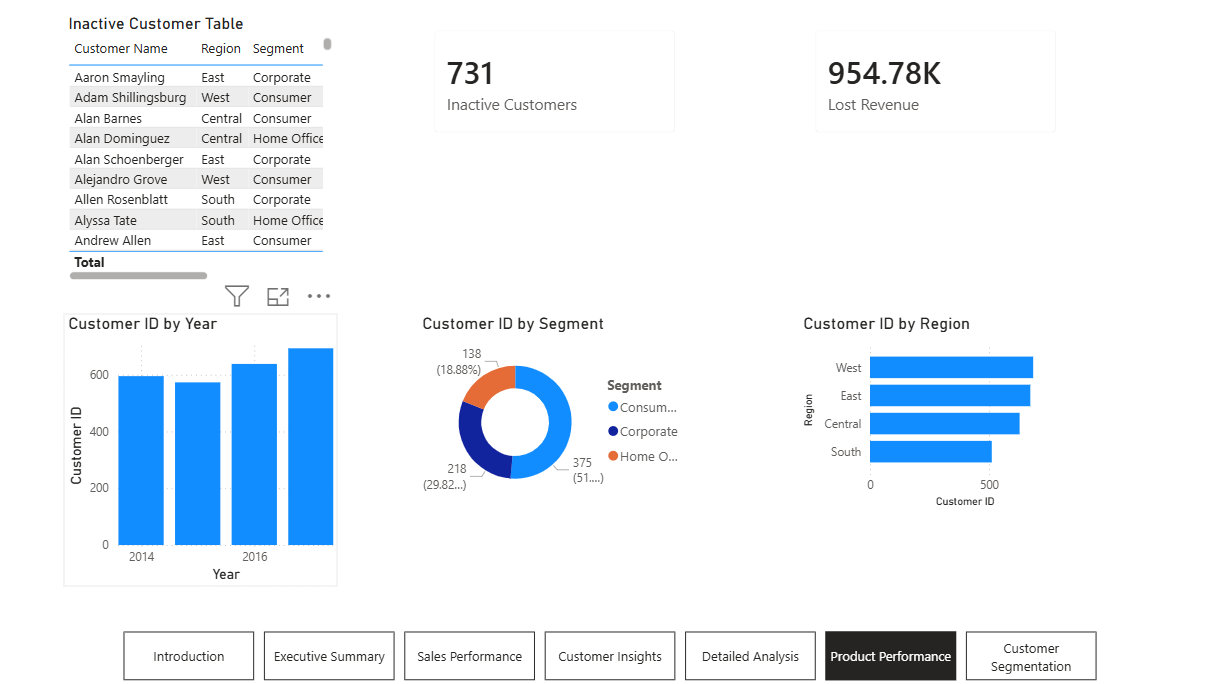

The page's visual inventory and layout, read from the dashboard file:
{"tool":"powerbi","page":{"name":"Product Performance","canvas":[1280,720],"ordinal":5},"visuals":[{"type":"tableEx","title":"Inactive Customer Table","fields":{"Values":["sales_dashboard sales.Customer Name","sales_dashboard sales.Region","sales_dashboard sales.Segment","Sum(sales_dashboard sales.Sales)","Sum(sales_dashboard sales.Profit)","Sum(sales_dashboard sales.Order Year)"]},"box":[78.7,22.7,280.1,278.6],"z":0},{"type":"clusteredColumnChart","fields":{"Category":["sales_dashboard sales.Year"],"Y":["Count(sales_dashboard sales.Customer ID)"]},"box":[78.7,330.1,281.6,280.1],"z":1000},{"type":"donutChart","fields":{"Category":["sales_dashboard sales.Segment"],"Y":["Count(sales_dashboard sales.Customer ID)"]},"box":[442.1,330.1,281.6,202.9],"z":2000},{"type":"barChart","fields":{"Category":["sales_dashboard sales.Region"],"Y":["Count(sales_dashboard sales.Customer ID)"]},"box":[832.8,330.1,283.2,202.9],"z":3000},{"type":"cardVisual","fields":{"Data":["sales_dashboard sales.Lost Revenue"]},"box":[832.8,22.7,281.6,139.3],"z":4000},{"type":"cardVisual","fields":{"Data":["sales_dashboard sales.Inactive Customers"]},"box":[442.1,22.7,281.6,139.3],"z":5000},{"type":"pageNavigator","box":[140,669.2,1000,50.8],"z":5001}]}

Visuals, with their boxes in screenshot pixels (x1, y1, x2, y2), scaled from the page's 1280x720 canvas onto the 1222x684 screenshot:
"Inactive Customer Table" tableEx: <bbox>75, 22, 343, 286</bbox>
clusteredColumnChart - sales_dashboard sales.Year x Count(sales_dashboard sales.Customer ID): <bbox>75, 314, 344, 580</bbox>
donutChart - sales_dashboard sales.Segment x Count(sales_dashboard sales.Customer ID): <bbox>422, 314, 691, 506</bbox>
barChart - sales_dashboard sales.Region x Count(sales_dashboard sales.Customer ID): <bbox>795, 314, 1065, 506</bbox>
cardVisual - sales_dashboard sales.Lost Revenue: <bbox>795, 22, 1064, 154</bbox>
cardVisual - sales_dashboard sales.Inactive Customers: <bbox>422, 22, 691, 154</bbox>
pageNavigator: <bbox>134, 636, 1088, 683</bbox>
